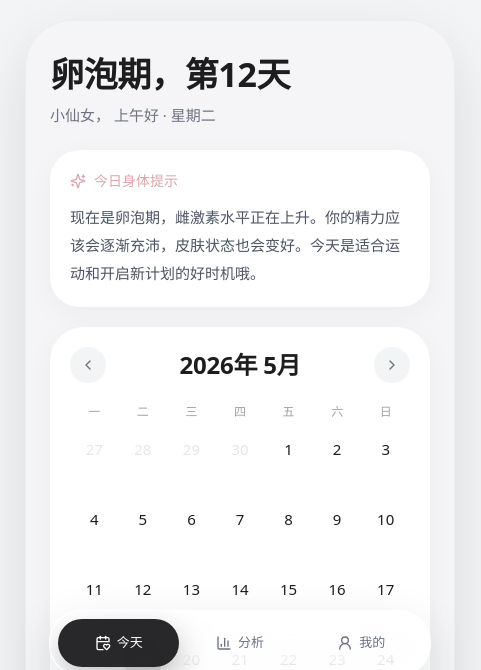
Test: Half Moon app › renders calendar record markers with degree-aware lucide icons instead of emoji
Click the button named "5月10日".
click(386, 532)  # box [361,499,410,565]
(page scrolled)
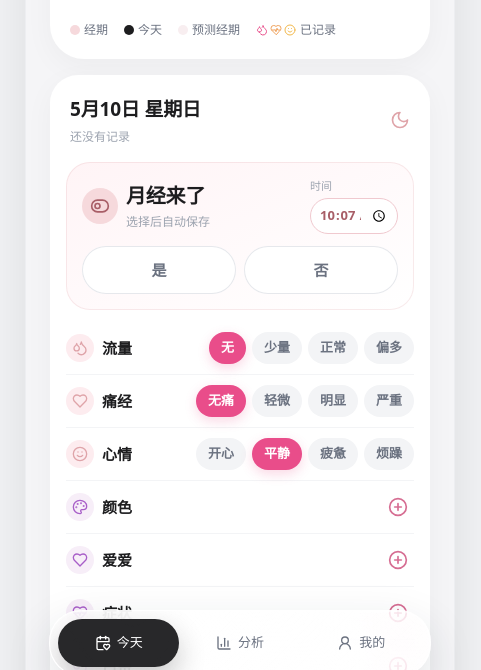
Click the button "正常".
click(333, 348)  # box [308,332,358,364]
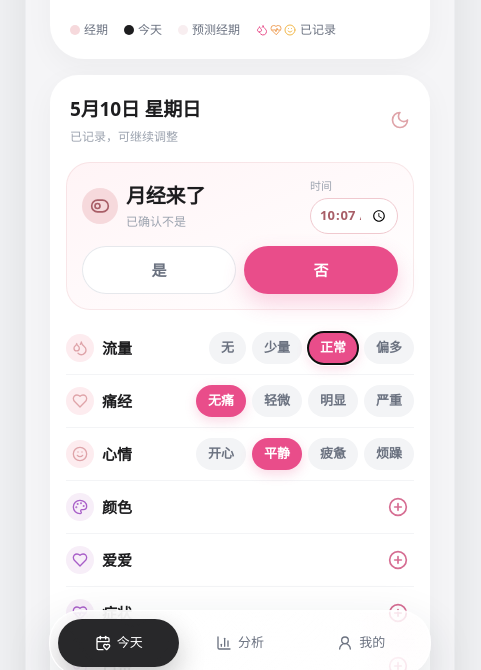
Click the button "轻微".
click(277, 401)  # box [252,385,302,417]
(page scrolled)
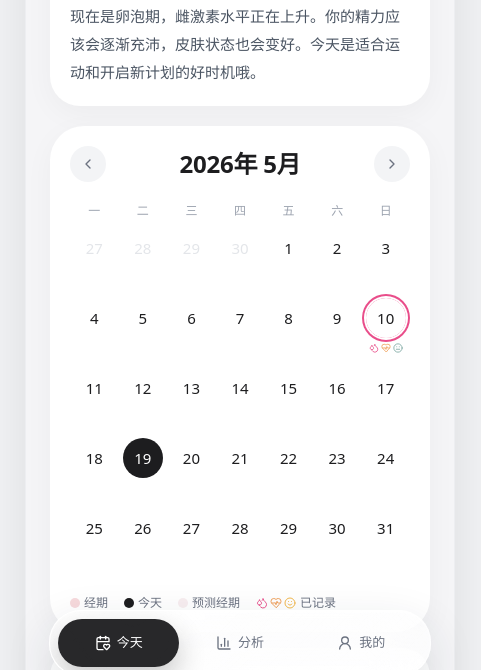
Now the picture named "流量 正常" is shown, box [369,343,379,353]
Now the picture named "心情 平静" is shown, box [393,343,403,353]
Now the picture named "痛经 轻微" is shown, box [381,343,391,353]
